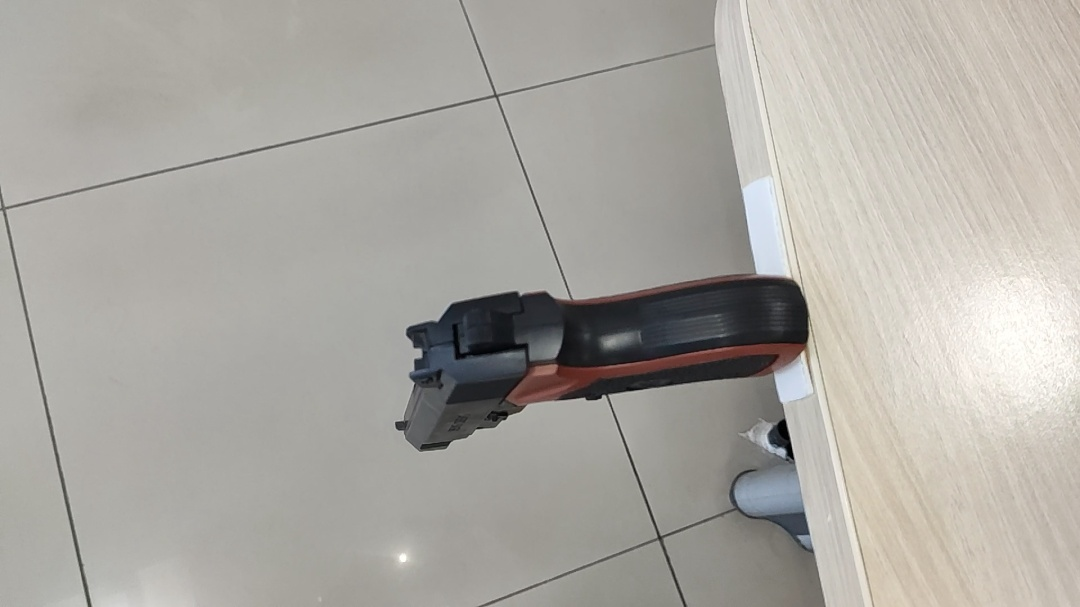gun: (388, 240, 530, 351)
